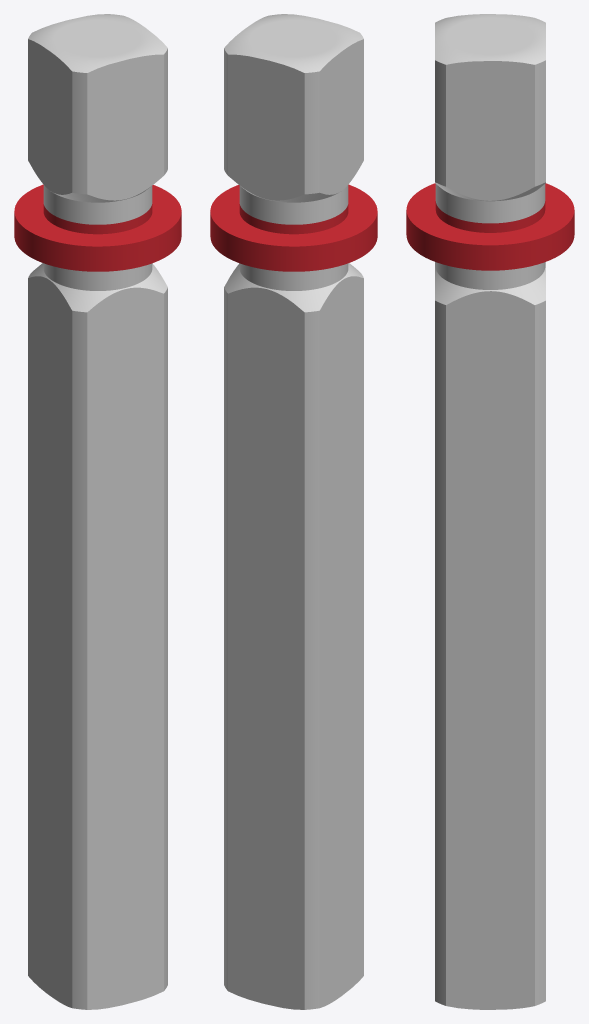
3 views of the same model, side by side, from view 1: azimuth 30°, elevation 25°; view 2: azimuth 150°, elevation 25°; view 3: azimuth 270°, elevation 25° (orthographic).
Visible parts, largest first — view 1: NAUO1, NAUO2; view 2: NAUO1, NAUO2; view 3: NAUO1, NAUO2.
Boxes of the visible parts, x1=… form: NAUO1: x1=28, y1=14, x2=167, y2=1009; NAUO2: x1=14, y1=184, x2=181, y2=271; NAUO1: x1=224, y1=14, x2=363, y2=1009; NAUO2: x1=210, y1=184, x2=377, y2=271; NAUO1: x1=435, y1=14, x2=545, y2=1009; NAUO2: x1=406, y1=183, x2=574, y2=270.
Bounding box in the file's own units: 0.0048 × 0.03 × 0.0048.
